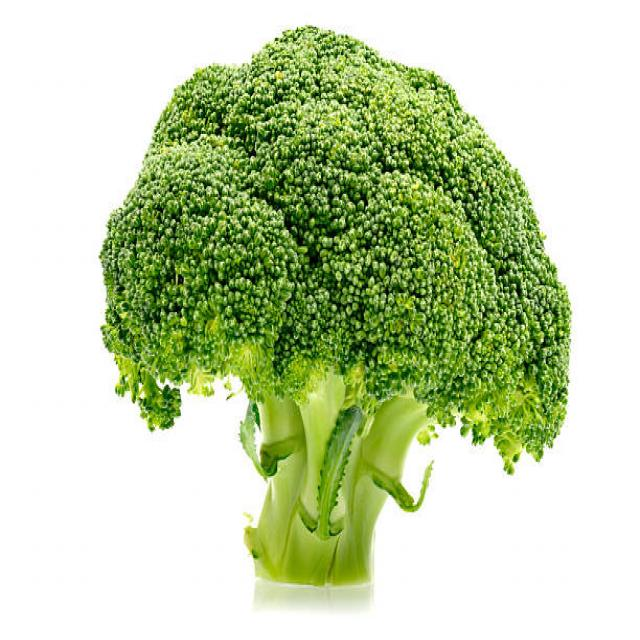broccoli: (61, 31, 593, 610)
